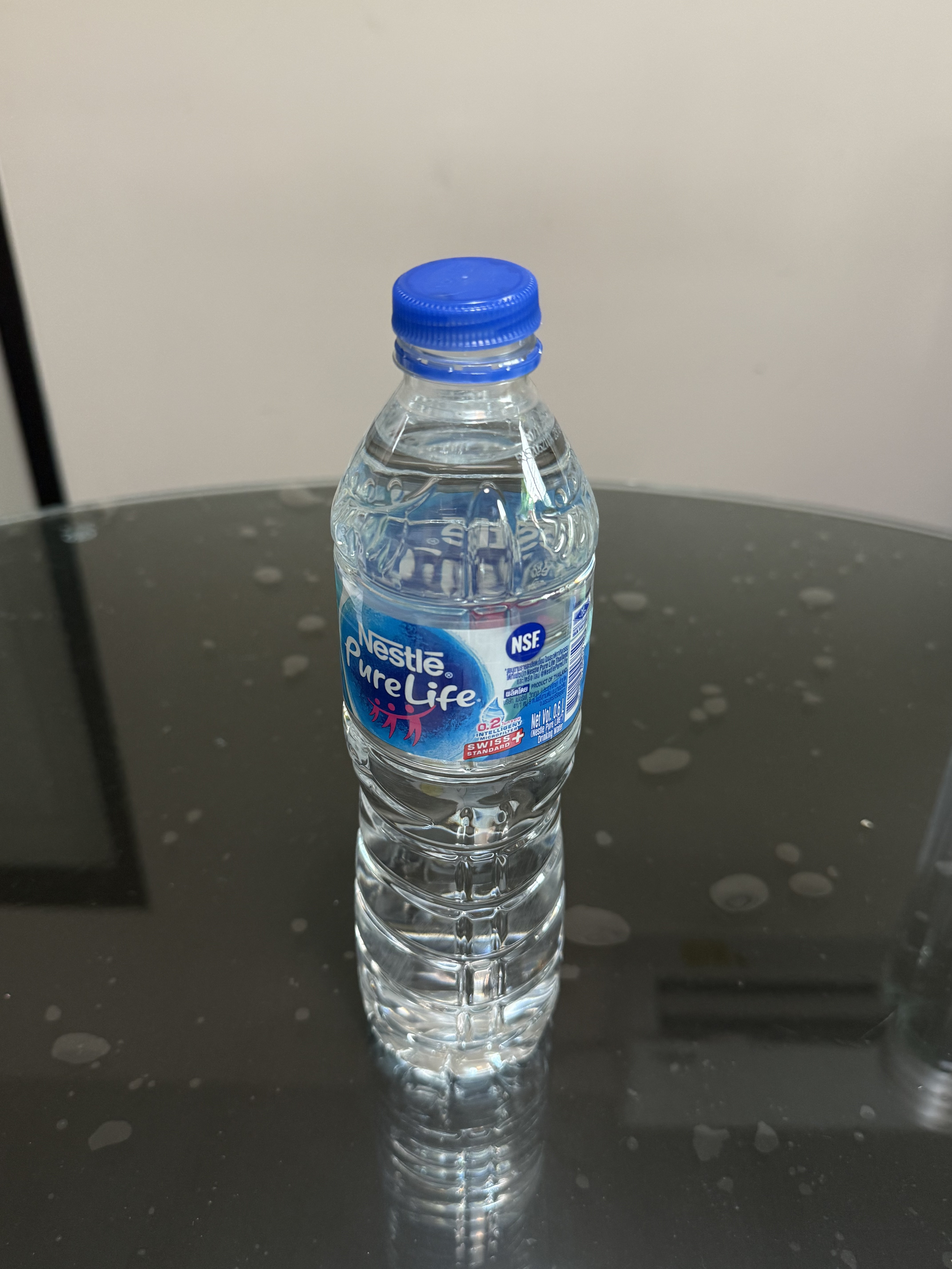half_cap: (385, 251, 546, 381)
